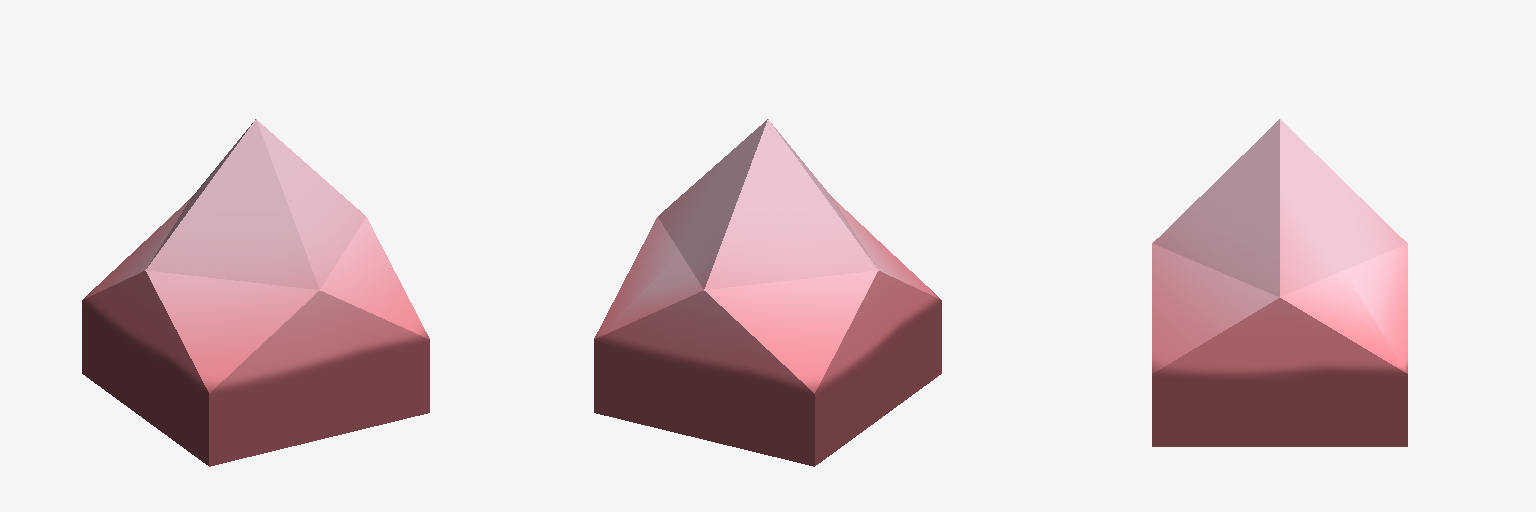
The picture shows the model from 3 angles: view 1: azimuth 30°, elevation 25°; view 2: azimuth 150°, elevation 25°; view 3: azimuth 270°, elevation 25°; orthographic projection.
Visible parts, largest first — view 1: 立方体; view 2: 立方体; view 3: 立方体.
Boxes of the visible parts, box(x1,y1,x2,y2) form: 立方体: box(82, 119, 429, 466); 立方体: box(594, 119, 941, 466); 立方体: box(1152, 119, 1407, 446).
Bounding box in the file's own units: 1.16 × 1.38 × 1.16.
Materials: 1 (1 with a texture image).